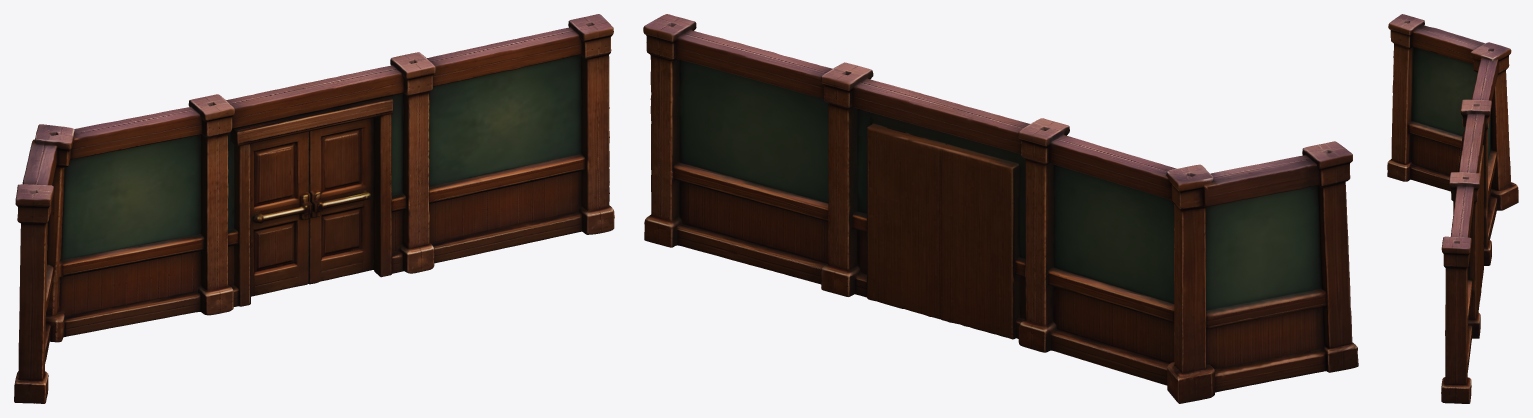
The model's file is 4thwall?.glb.
3 views of the same model, side by side, from view 1: azimuth 30°, elevation 25°; view 2: azimuth 150°, elevation 25°; view 3: azimuth 270°, elevation 25° (orthographic). The views are drawn at different scales.
Visible parts, largest first — view 1: tripo_node_5916c67a-cbae-48b2-8caf-85658d15218e; view 2: tripo_node_5916c67a-cbae-48b2-8caf-85658d15218e; view 3: tripo_node_5916c67a-cbae-48b2-8caf-85658d15218e.
Boxes of the visible parts, left/top/right/bottom form: tripo_node_5916c67a-cbae-48b2-8caf-85658d15218e: left=14, top=14, right=614, bottom=403; tripo_node_5916c67a-cbae-48b2-8caf-85658d15218e: left=643, top=14, right=1358, bottom=403; tripo_node_5916c67a-cbae-48b2-8caf-85658d15218e: left=1387, top=14, right=1518, bottom=403.
Bounding box in the file's own units: 1 × 0.3079 × 0.2351.
1 material, 1 textured.
